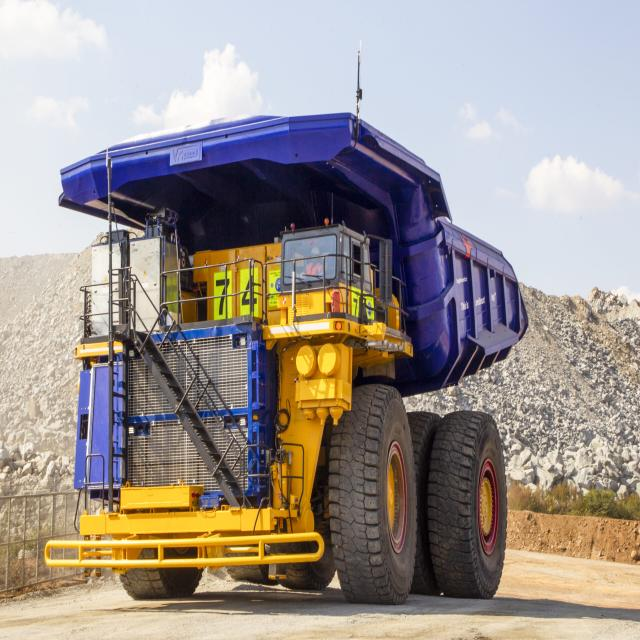dump_truck: (41, 98, 530, 632)
